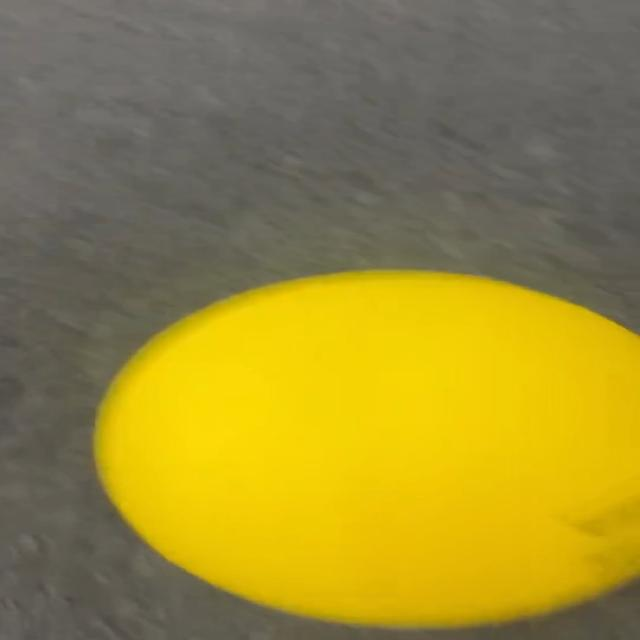Fuels: (96, 268, 640, 625)
